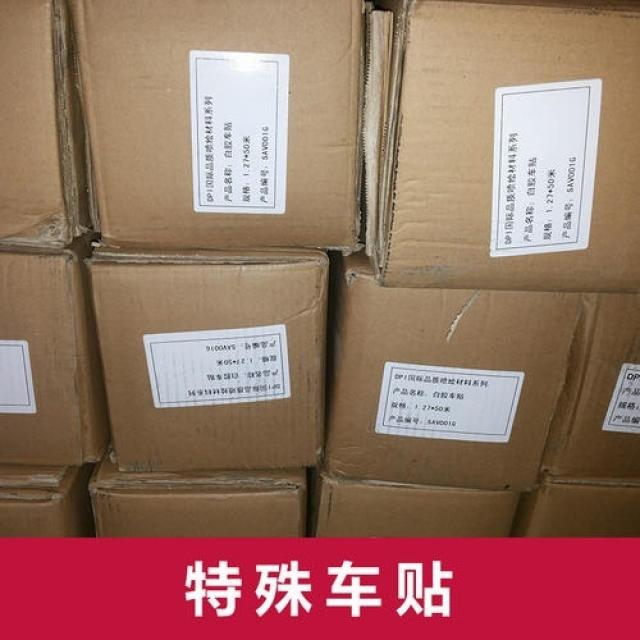box: (359, 3, 638, 294), (68, 3, 371, 253), (324, 254, 586, 492), (90, 243, 328, 472), (1, 228, 111, 466), (0, 0, 91, 251), (90, 442, 308, 536), (541, 294, 639, 480), (307, 468, 524, 536), (511, 473, 639, 539), (0, 464, 101, 539)
